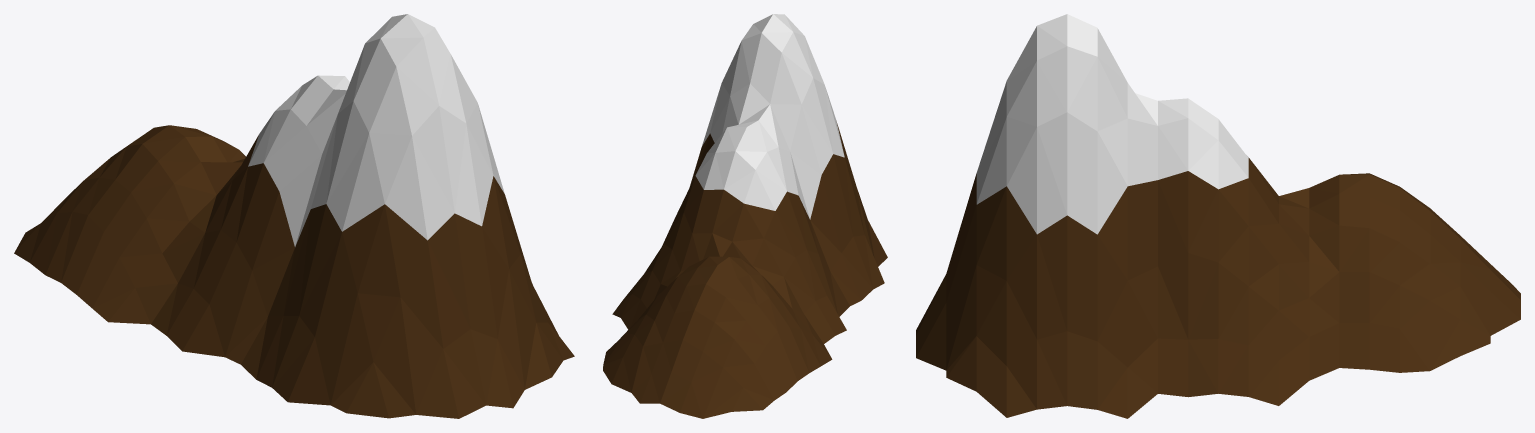
The model's file is mountain.fbx.
3 views of the same model, side by side, from view 1: azimuth 30°, elevation 25°; view 2: azimuth 150°, elevation 25°; view 3: azimuth 270°, elevation 25° (orthographic). The views are drawn at different scales.
Visible parts, largest first — view 1: mountain; view 2: mountain; view 3: mountain.
Part boxes in pixels (<box>): mountain: <box>14,14,574,418</box>; mountain: <box>603,14,887,418</box>; mountain: <box>916,14,1520,418</box>.
Size of the model in its own units: 16.99 by 17.62 by 28.32.
